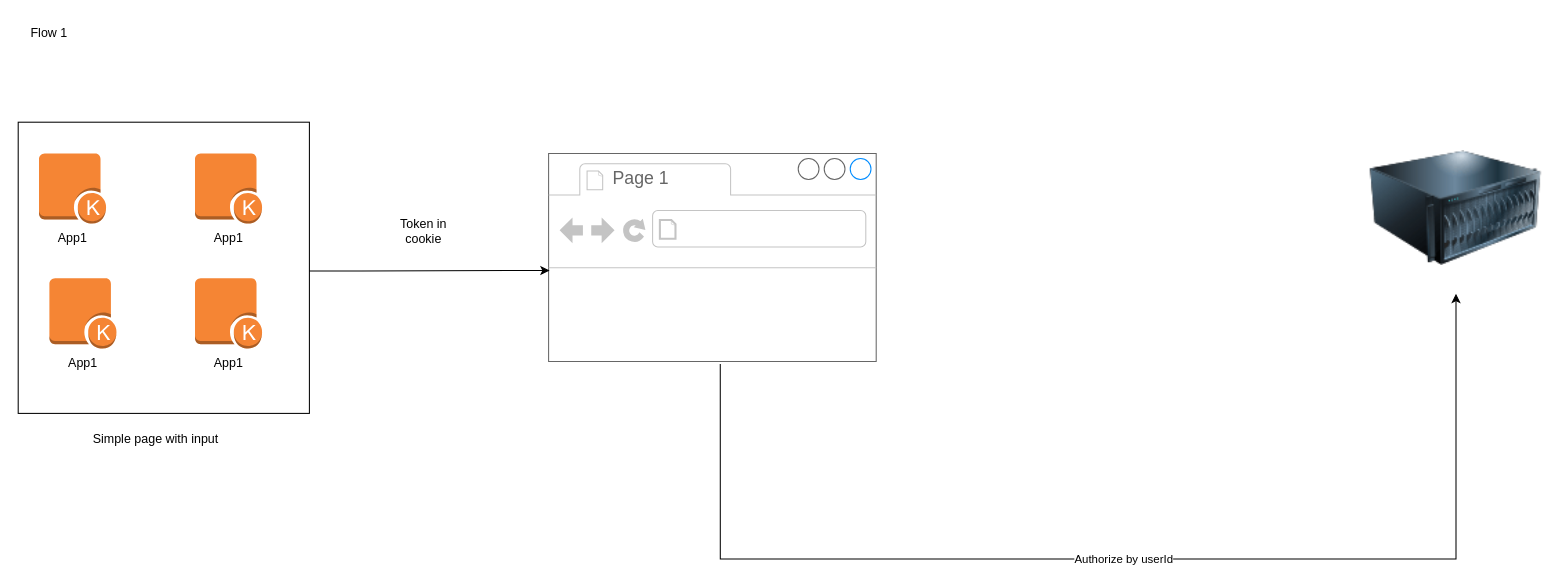
This 1560x586 diagram has some shape labels left out. The box of each missing label's shape, as (x1, y1, x2, y2) in pixels:
https://www.draw.io: (683, 215, 944, 243)
Proxy API: (1370, 122, 1541, 293)
Simpl: (17, 121, 309, 413)
